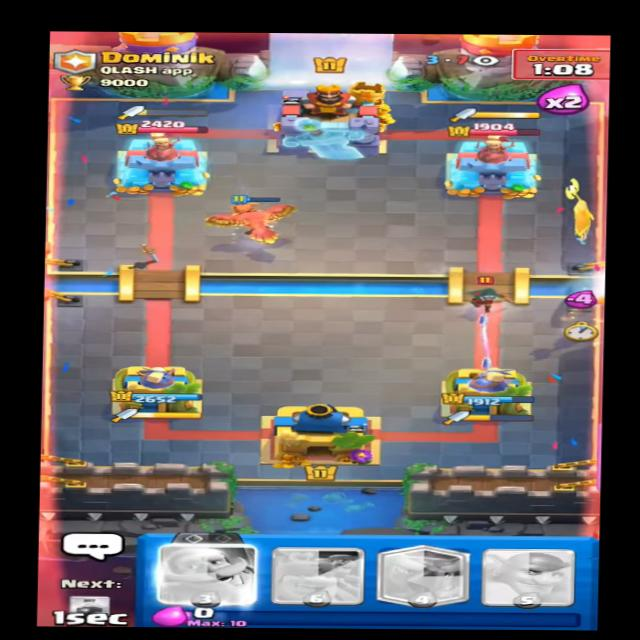Bandit: (451, 273, 511, 314)
